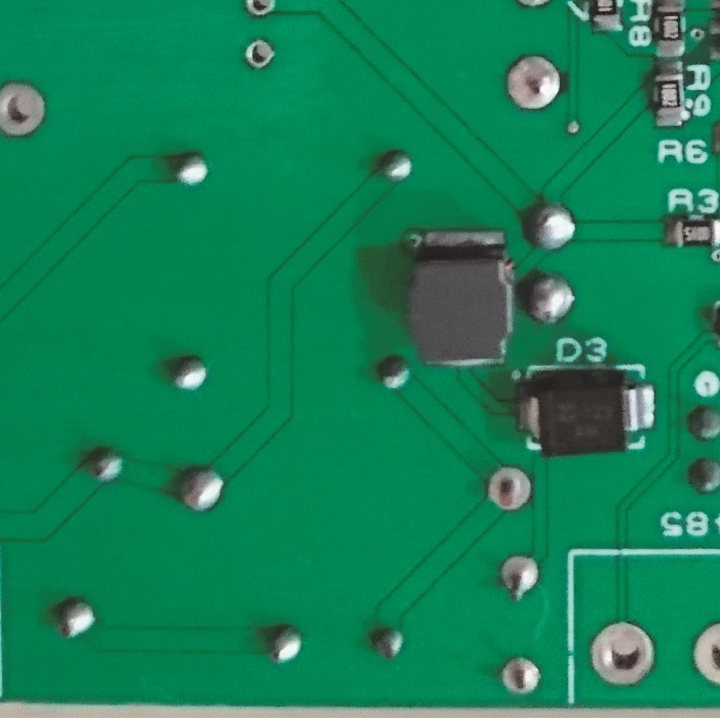F: (587, 618, 658, 689), (504, 55, 565, 115), (484, 461, 536, 516), (1, 80, 50, 138), (497, 553, 541, 602), (499, 654, 542, 697), (244, 35, 276, 78), (243, 1, 280, 20)
